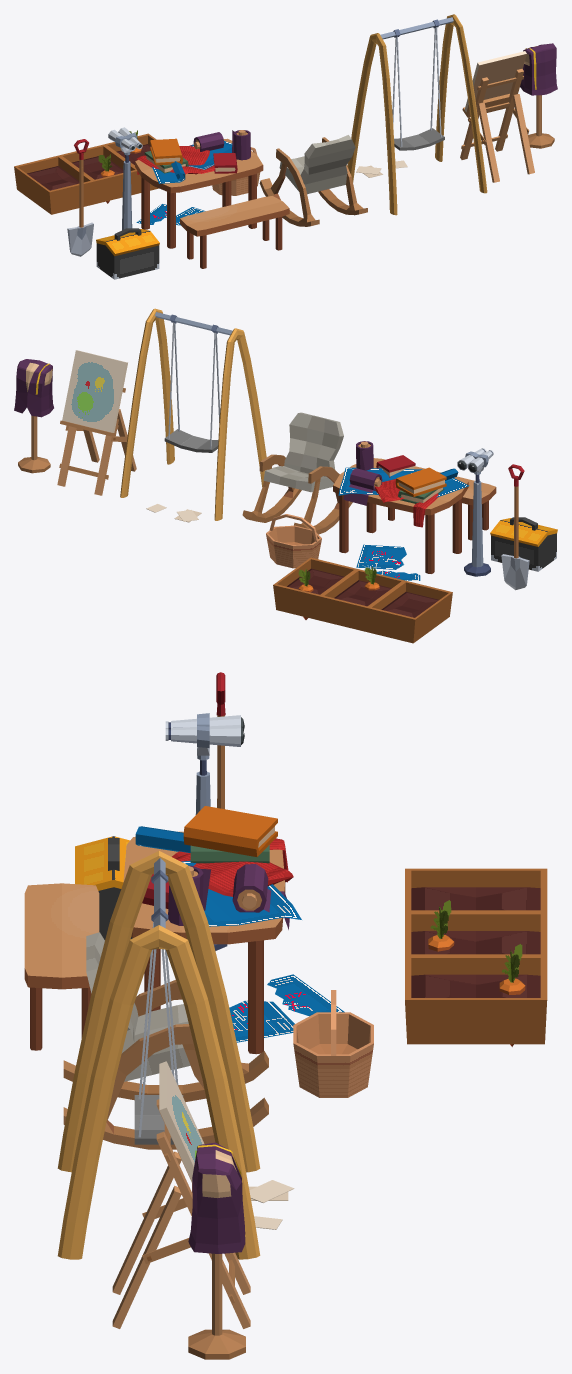
File: W.environment_model (3).gltf
The picture shows the model from 3 angles, top to bottom: view 1: azimuth 30°, elevation 25°; view 2: azimuth 150°, elevation 25°; view 3: azimuth 270°, elevation 25°; orthographic projection. The views are drawn at different scales.
Parts seen in each view (by area): view 1: group4, group16, group3, group6, group2, group, cylinder (×5), cuboid (×2), group13, group7, group12, group14 (+1 smaller); view 2: group16, group4, group6, group3, cylinder (×5), cuboid (×2), group, group13, group7, group14, group12, group2 (+1 smaller); view 3: group4, group16, cylinder (×5), cuboid (×2), group3, group2, group6, group, group7, group13, group14, group15 (+2 smaller).
Boxes of the visible parts, x1=… form: group4: x1=347, y1=14, x2=487, y2=215; group16: x1=14, y1=133, x2=158, y2=214; group3: x1=259, y1=135, x2=367, y2=226; group6: x1=460, y1=51, x2=534, y2=182; group2: x1=180, y1=196, x2=289, y2=268; group: x1=135, y1=138, x2=263, y2=248; cylinder (×5): x1=108, y1=127, x2=260, y2=230; cuboid (×2): x1=136, y1=43, x2=557, y2=174; group13: x1=96, y1=228, x2=159, y2=279; group7: x1=144, y1=138, x2=237, y2=173; group12: x1=67, y1=139, x2=93, y2=256; group14: x1=136, y1=204, x2=205, y2=225; group16: x1=273, y1=557, x2=452, y2=643; group4: x1=120, y1=308, x2=269, y2=520; group6: x1=57, y1=350, x2=136, y2=495; group3: x1=242, y1=412, x2=352, y2=534; cylinder (×5): x1=266, y1=441, x2=493, y2=576; cuboid (×2): x1=14, y1=359, x2=438, y2=527; group: x1=333, y1=458, x2=468, y2=573; group13: x1=490, y1=517, x2=557, y2=571; group7: x1=376, y1=455, x2=446, y2=503; group14: x1=356, y1=544, x2=420, y2=580; group12: x1=501, y1=464, x2=529, y2=590; group2: x1=388, y1=471, x2=496, y2=540; group4: x1=57, y1=851, x2=260, y2=1259; group16: x1=405, y1=868, x2=547, y2=1044; cylinder (×5): x1=135, y1=713, x2=373, y2=1097; cuboid (×2): x1=172, y1=838, x2=293, y2=1359; group3: x1=63, y1=932, x2=268, y2=1149; group2: x1=24, y1=883, x2=99, y2=1050; group6: x1=112, y1=1061, x2=250, y2=1328; group: x1=123, y1=831, x2=285, y2=1054; group7: x1=142, y1=806, x2=277, y2=908; group13: x1=75, y1=836, x2=132, y2=939; group14: x1=229, y1=974, x2=344, y2=1042; group15: x1=181, y1=860, x2=301, y2=926.
Size of the model in its own units: 10.8 by 3.71 by 5.05.
13 materials, 13 textured.
